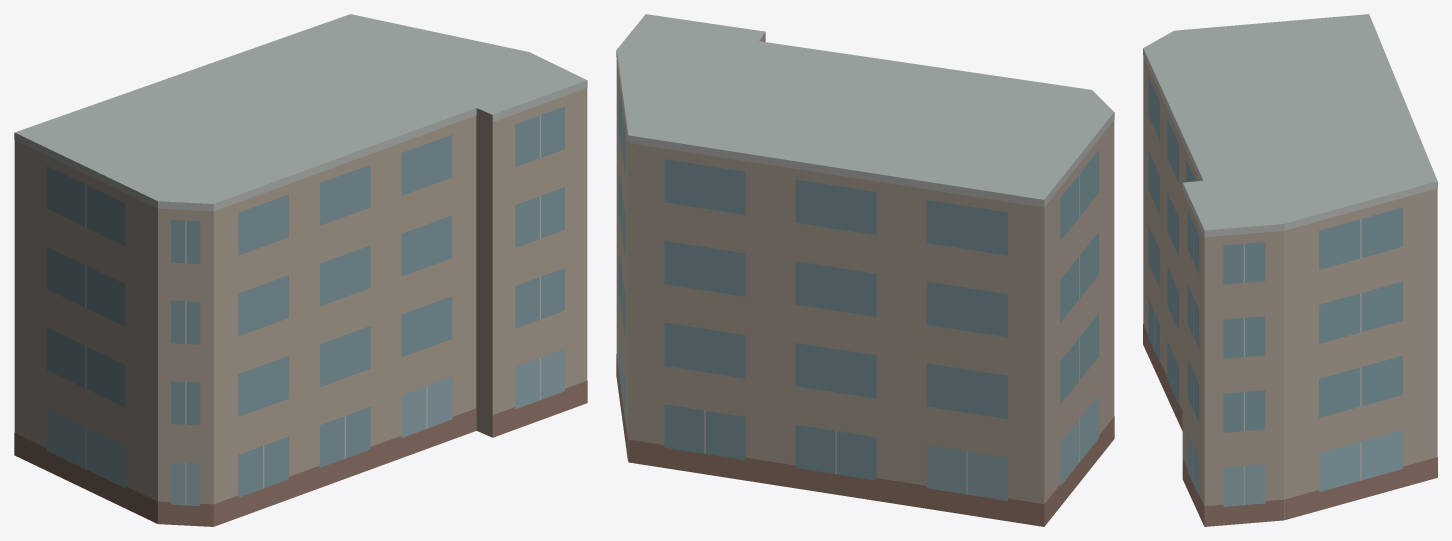
The model's file is survey-upis-33046409.glb.
3 renders of one model, left to right at view 1: azimuth 30°, elevation 25°; view 2: azimuth 150°, elevation 25°; view 3: azimuth 270°, elevation 25°, orthographic. The views are drawn at different scales.
Parts seen in each view (by area): view 1: survey-upis-33046409.tmp; view 2: survey-upis-33046409.tmp; view 3: survey-upis-33046409.tmp.
Part boxes in pixels (bbox=[...]): survey-upis-33046409.tmp: bbox=[14, 14, 587, 526]; survey-upis-33046409.tmp: bbox=[616, 14, 1114, 526]; survey-upis-33046409.tmp: bbox=[1143, 14, 1437, 526].
Bounding box in the file's own units: 16.46 × 10.5 × 9.47.
